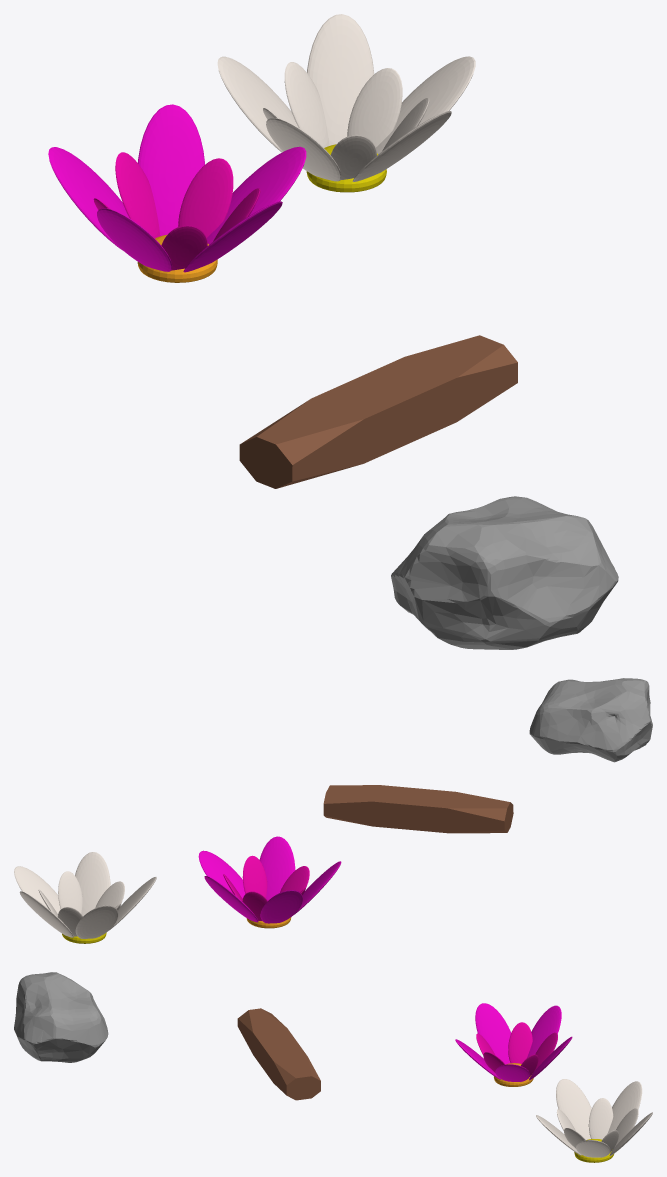
The model's file is water_lilies.fbx.
3 views of the same model, one above another, from view 1: azimuth 30°, elevation 25°; view 2: azimuth 150°, elevation 25°; view 3: azimuth 270°, elevation 25° (orthographic). The views are drawn at different scales.
Visible parts, largest first — view 1: Cube.005, Sphere.011, Sphere.007, Cube.004; view 2: Cube.005, Cube.004, Sphere.011, Sphere.007; view 3: Cube.005, Sphere.007, Sphere.011, Cube.004.
Boxes of the visible parts, left/top/right/bottom form: Cube.005: left=391, top=496, right=618, bottom=649; Sphere.011: left=48, top=104, right=306, bottom=282; Sphere.007: left=217, top=14, right=475, bottom=192; Cube.004: left=239, top=335, right=517, bottom=488; Cube.005: left=529, top=678, right=652, bottom=762; Cube.004: left=323, top=785, right=513, bottom=833; Sphere.011: left=198, top=836, right=341, bottom=928; Sphere.007: left=14, top=852, right=156, bottom=943; Cube.005: left=14, top=972, right=108, bottom=1062; Sphere.007: left=536, top=1079, right=652, bottom=1162; Sphere.011: left=455, top=1003, right=572, bottom=1086; Cube.004: left=237, top=1008, right=320, bottom=1100.
Bounding box in the file's own units: 1724 × 419 × 3169.
